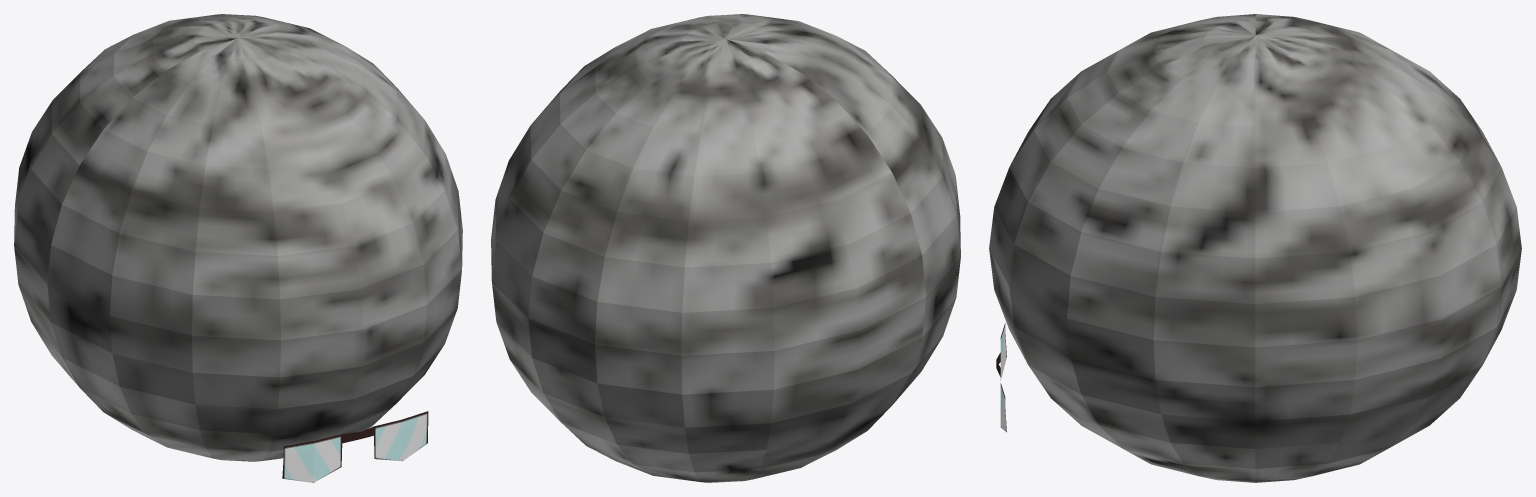
The model's file is tailor.glb.
3 renders of one model, left to right at view 1: azimuth 30°, elevation 25°; view 2: azimuth 150°, elevation 25°; view 3: azimuth 270°, elevation 25°, orthographic. The views are drawn at different scales.
Visible parts, largest first — view 1: tailorass; view 2: tailorass; view 3: tailorass.
Part boxes in pixels (x1,y1,x2,y2): tailorass: [14, 14, 462, 482]; tailorass: [491, 14, 960, 482]; tailorass: [989, 14, 1521, 482].
Bounding box in the file's own units: 2.34 × 2.34 × 2.65.
Materials: 1 (1 with a texture image).
